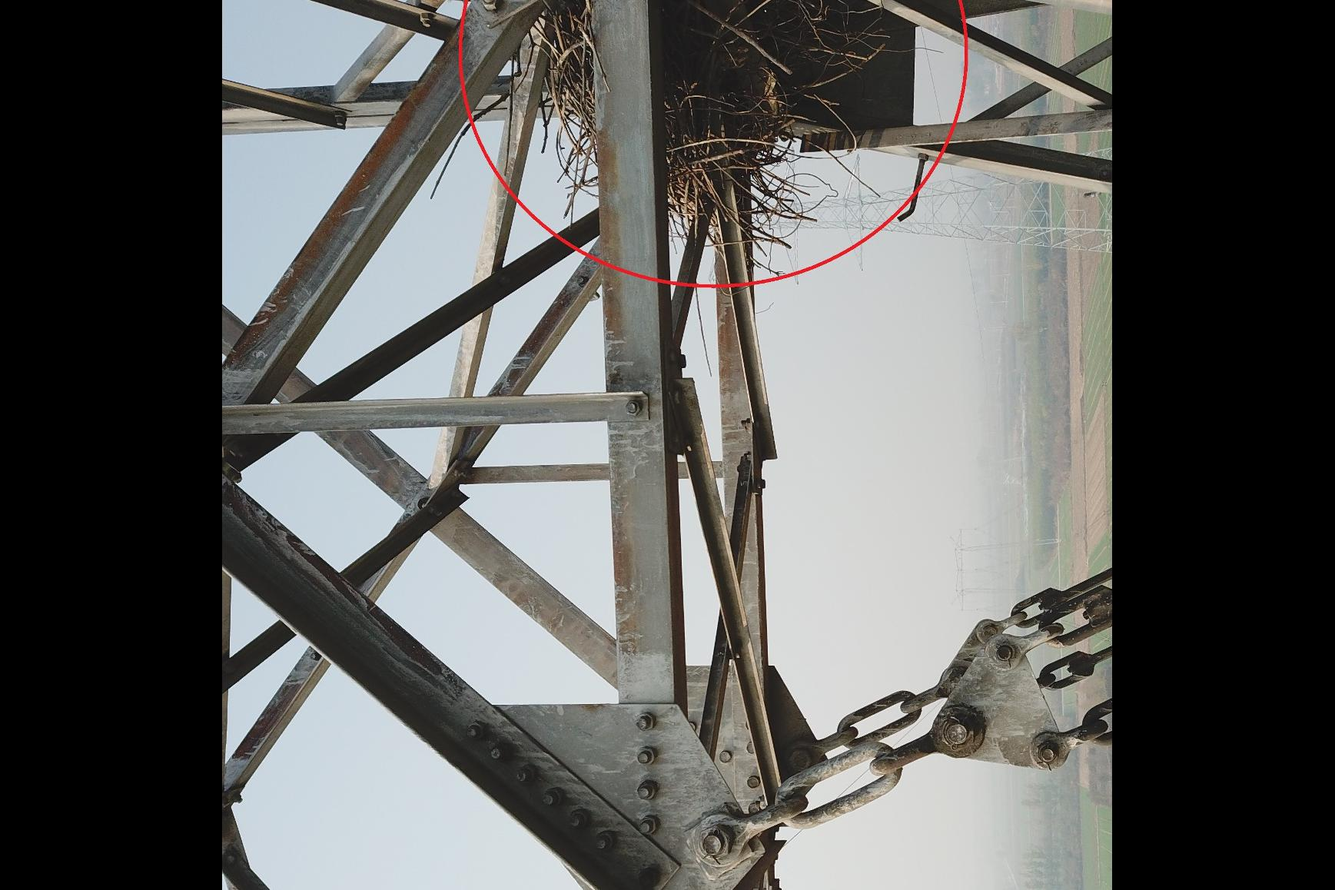nest: (520, 1, 902, 267)
